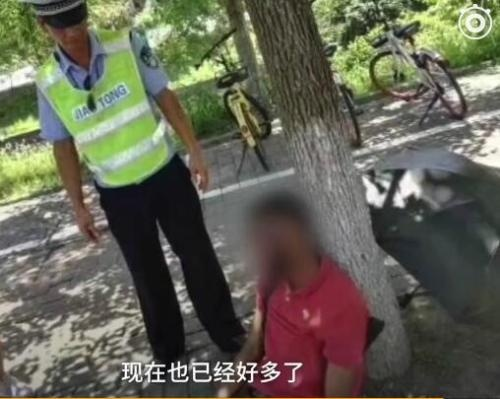falling: (215, 187, 391, 384)
